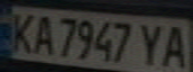4: (90, 18, 118, 62)
7: (109, 18, 139, 64), (54, 14, 78, 58)
9: (72, 16, 96, 61)
A: (157, 20, 193, 70), (27, 11, 57, 56)
K: (3, 9, 42, 54)
Y: (133, 20, 169, 68)
